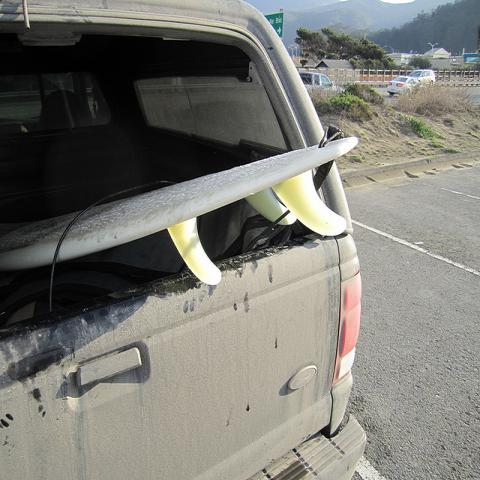car: (3, 8, 363, 474), (300, 73, 345, 95), (387, 75, 420, 97), (408, 69, 437, 87)
truck: (0, 0, 366, 474)
